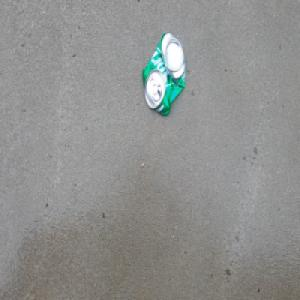SodaCan: (141, 30, 187, 118)
